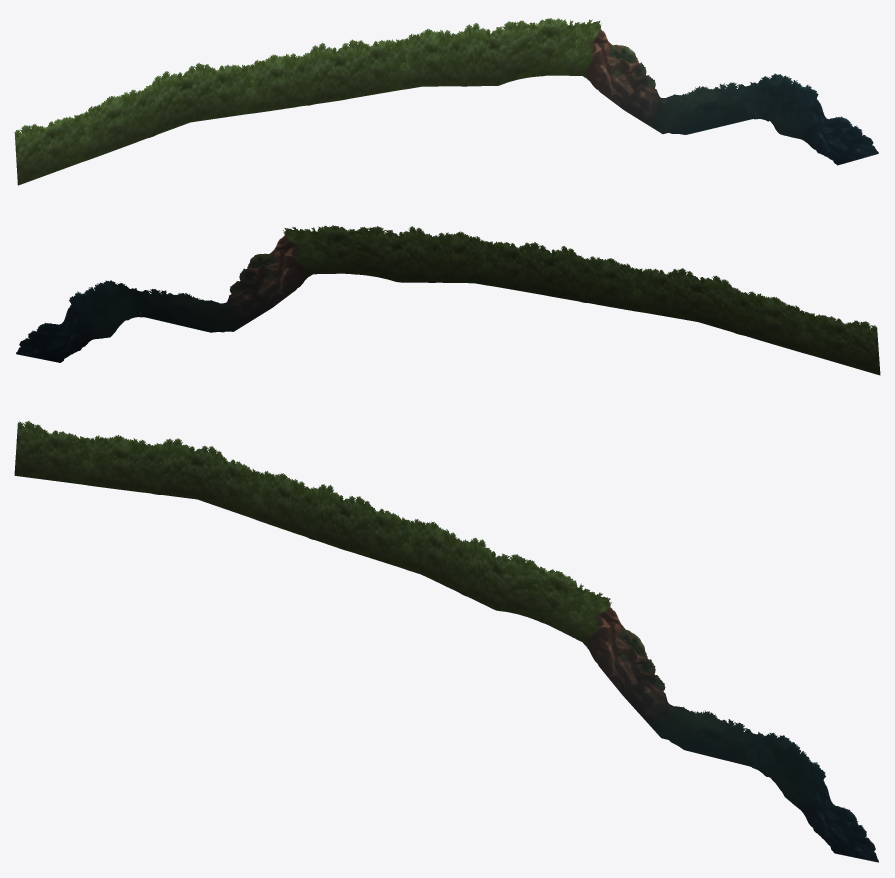
The model's file is Dark Forest Grass BG.FBX.
3 views of the same model, one above another, from view 1: azimuth 30°, elevation 25°; view 2: azimuth 150°, elevation 25°; view 3: azimuth 330°, elevation 25° (orthographic).
Parts seen in each view (by area): view 1: Grass Landscape BG; view 2: Grass Landscape BG; view 3: Grass Landscape BG.
Part boxes in pixels (x1,y1,x2,y2): Grass Landscape BG: (14,18,878,185); Grass Landscape BG: (16,225,880,375); Grass Landscape BG: (14,421,878,862).
Bounding box in the file's own units: 6700 × 177 × 1947.
